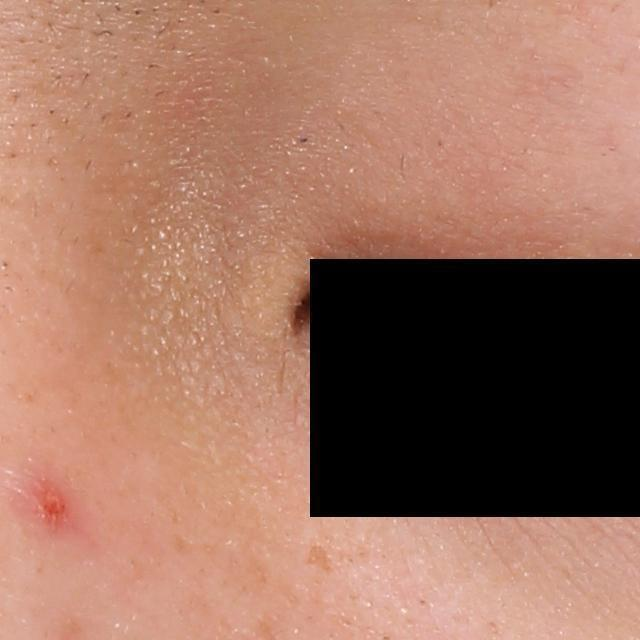melasma: (302, 539, 336, 578)
papule: (30, 479, 80, 533)
